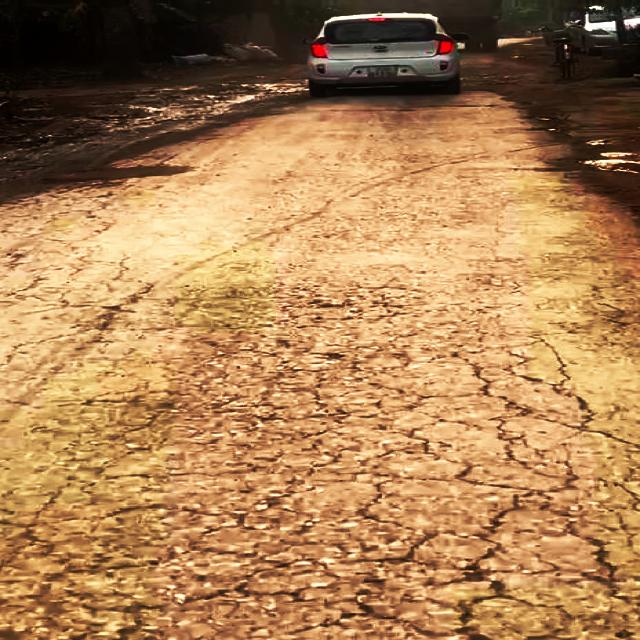pothole: (43, 160, 194, 186)
